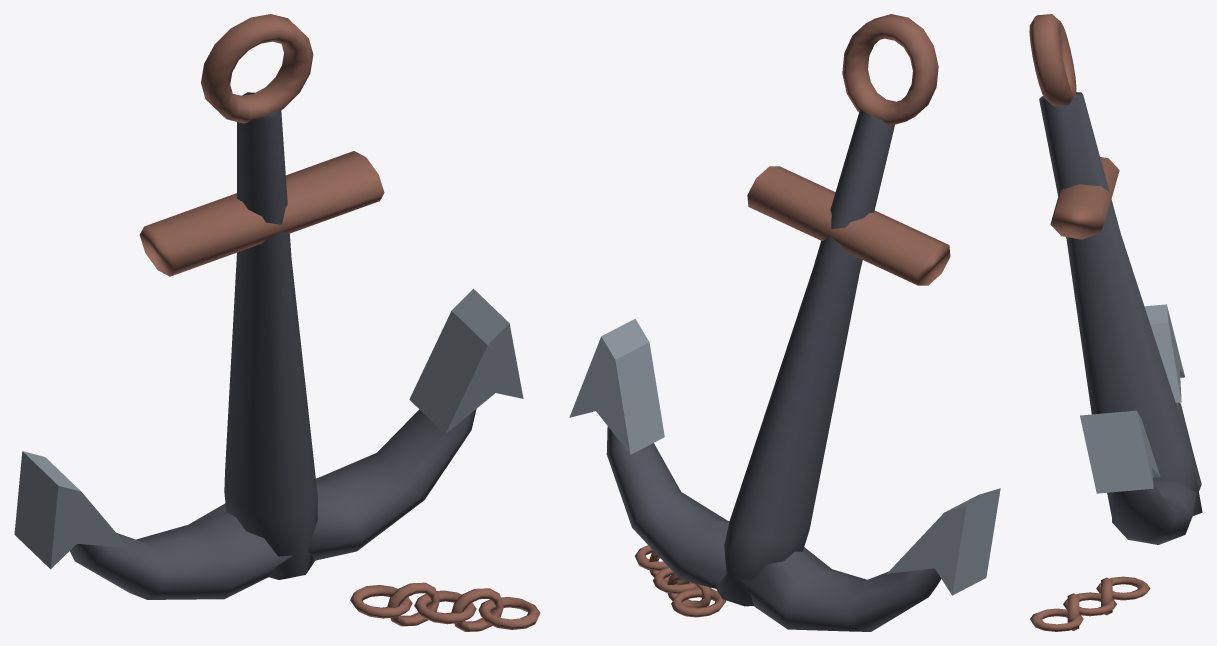
File: anchor.glb
3 views of the same model, side by side, from view 1: azimuth 30°, elevation 25°; view 2: azimuth 150°, elevation 25°; view 3: azimuth 270°, elevation 25° (orthographic). The views are drawn at different scales.
Parts seen in each view (by area): view 1: anchor; view 2: anchor; view 3: anchor.
Boxes of the visible parts, box(x1,y1,x2,y2) form: anchor: box(14, 14, 540, 631); anchor: box(569, 14, 1000, 631); anchor: box(1029, 14, 1202, 631).
Size of the model in its own units: 0.7 by 1 by 0.3.
